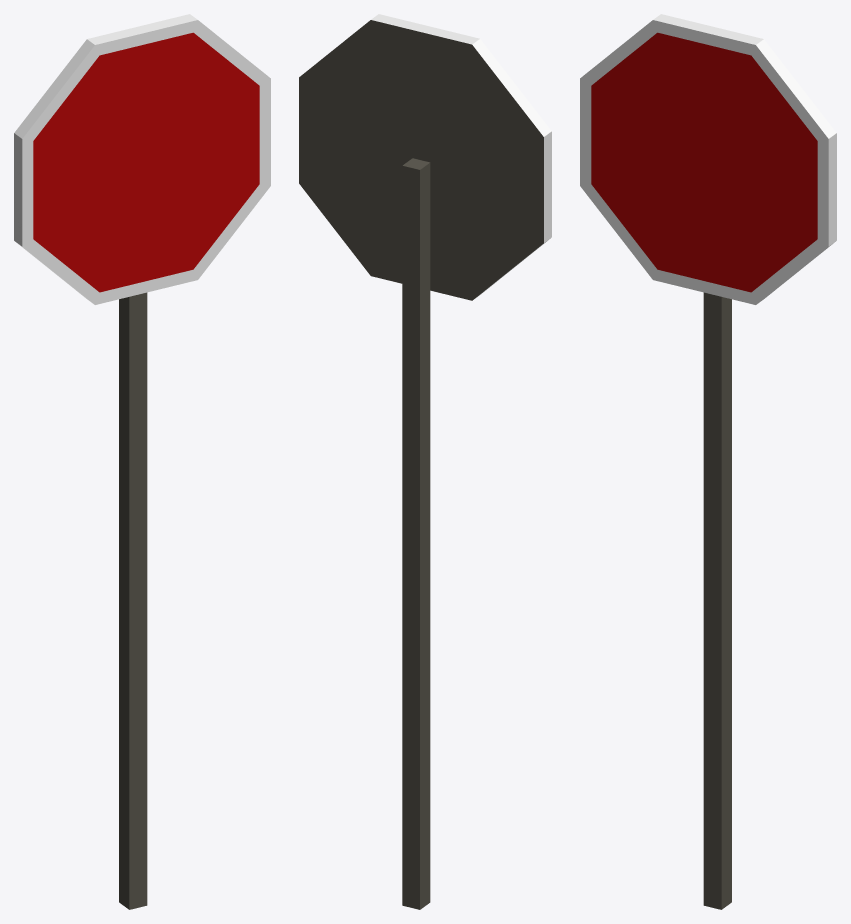
The model's file is CitySignStop.fbx.
The picture shows the model from 3 angles, left to right: view 1: azimuth 30°, elevation 25°; view 2: azimuth 150°, elevation 25°; view 3: azimuth 330°, elevation 25°; orthographic projection.
Visible parts, largest first — view 1: CitySignStop; view 2: CitySignStop; view 3: CitySignStop.
Part boxes in pixels (box(x1,y1,x2,y2)): CitySignStop: box(14, 14, 270, 909); CitySignStop: box(299, 14, 551, 909); CitySignStop: box(580, 14, 836, 909).
Size of the model in its own units: 0.1248 by 0.4229 by 0.0161.
